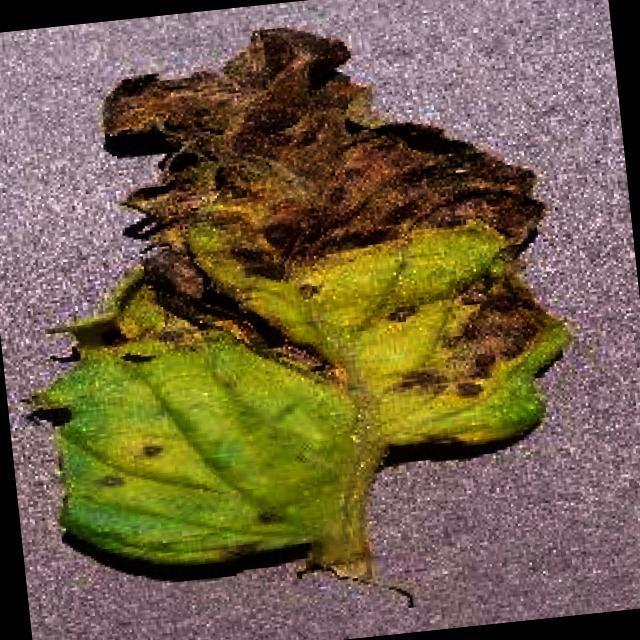Tomato Septoria spot leaf: (10, 0, 589, 578)
